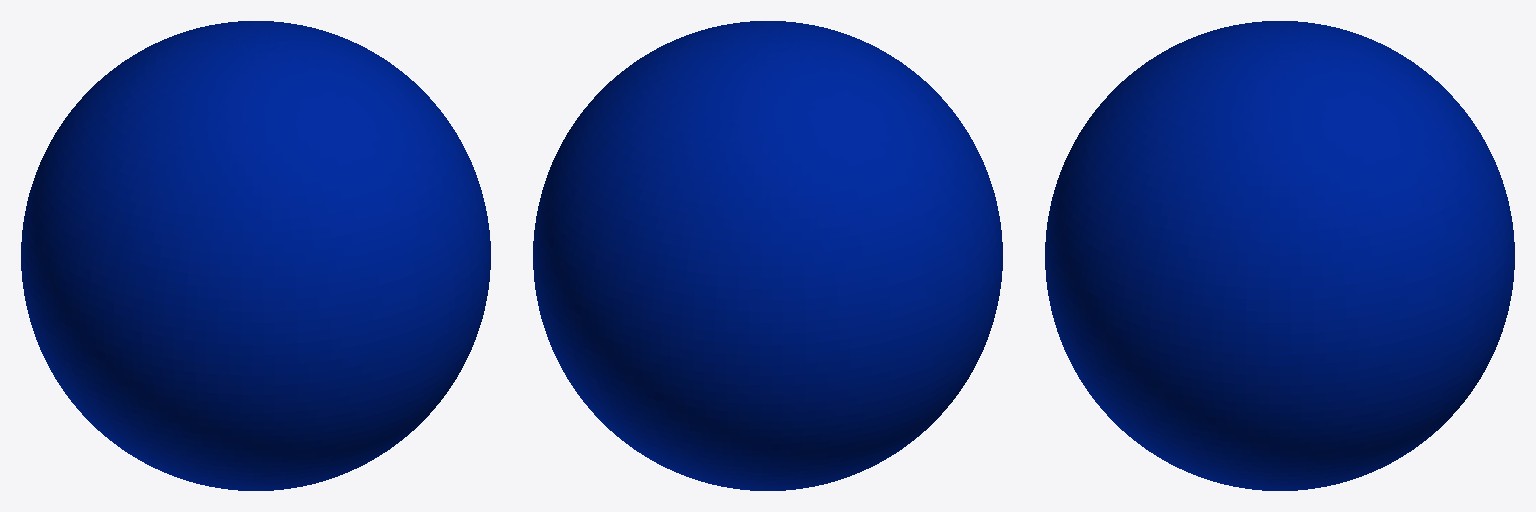
Rendered from earth.obj.
3 renders of one model, left to right at view 1: azimuth 30°, elevation 25°; view 2: azimuth 150°, elevation 25°; view 3: azimuth 270°, elevation 25°, orthographic.
Parts seen in each view (by area): view 1: Atmosphere_Sphere.003; view 2: Atmosphere_Sphere.003; view 3: Atmosphere_Sphere.003.
Boxes of the visible parts, x1,y1,x2,y2 form: Atmosphere_Sphere.003: [21, 21, 490, 490]; Atmosphere_Sphere.003: [533, 21, 1002, 490]; Atmosphere_Sphere.003: [1045, 21, 1514, 490].
Size of the model in its own units: 20.15 by 20.2 by 20.15.